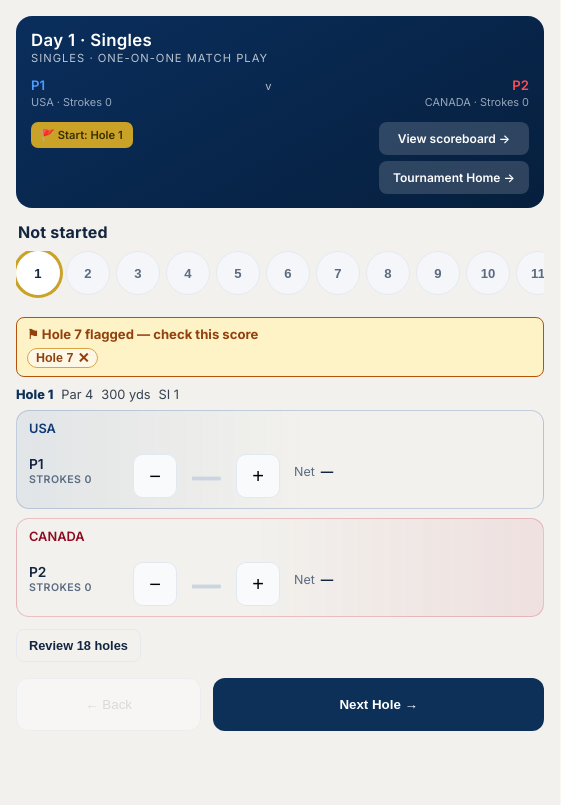
Test: match scorecard — 18-hole review grid (C) › a flagged hole is marked on the review grid
Click the button with test id "review-toggle-500".
click(78, 646)  # box [16,629,141,662]
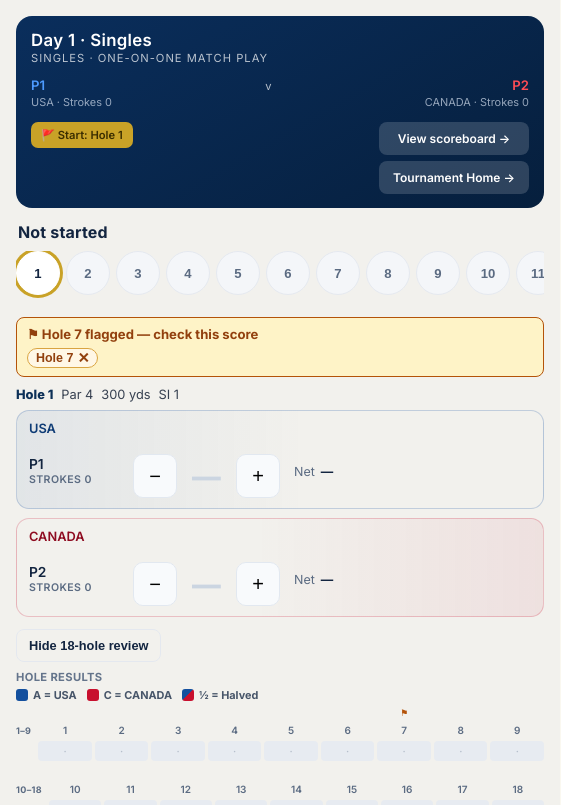
Result: the text "⚑" is shown at [400,707,408,718]
